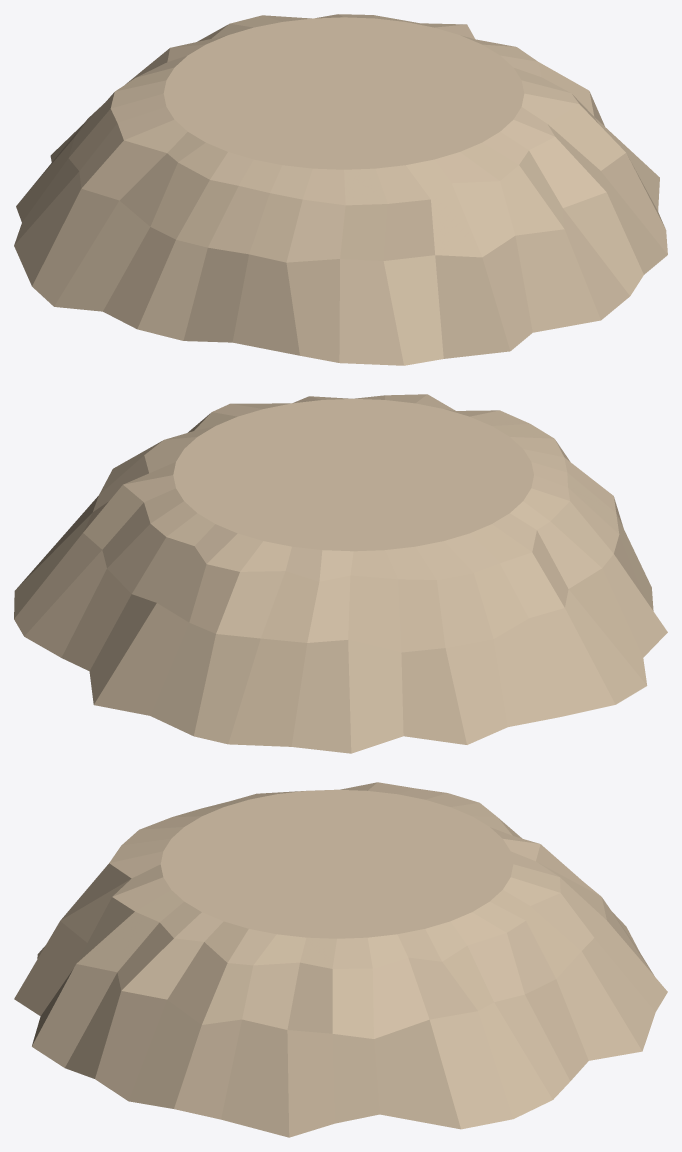
Rendered from Hut_GroundPad.glb.
3 views of the same model, one above another, from view 1: azimuth 30°, elevation 25°; view 2: azimuth 150°, elevation 25°; view 3: azimuth 270°, elevation 25° (orthographic). The views are drawn at different scales.
Visible parts, largest first — view 1: Hut_GroundPad; view 2: Hut_GroundPad; view 3: Hut_GroundPad.
Part boxes in pixels (bbox=[...]): Hut_GroundPad: bbox=[14, 14, 667, 365]; Hut_GroundPad: bbox=[14, 394, 667, 753]; Hut_GroundPad: bbox=[14, 782, 667, 1137].
Bounding box in the file's own units: 13.45 × 3.11 × 13.35.
